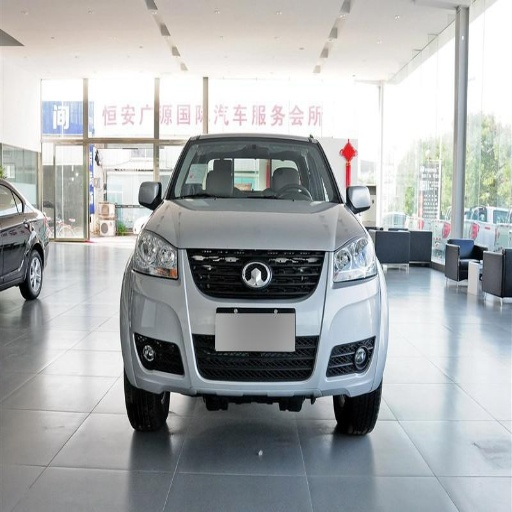front_bumper: (125, 247, 381, 395)
front_right_light: (132, 230, 178, 279)
hood: (152, 199, 362, 250)
